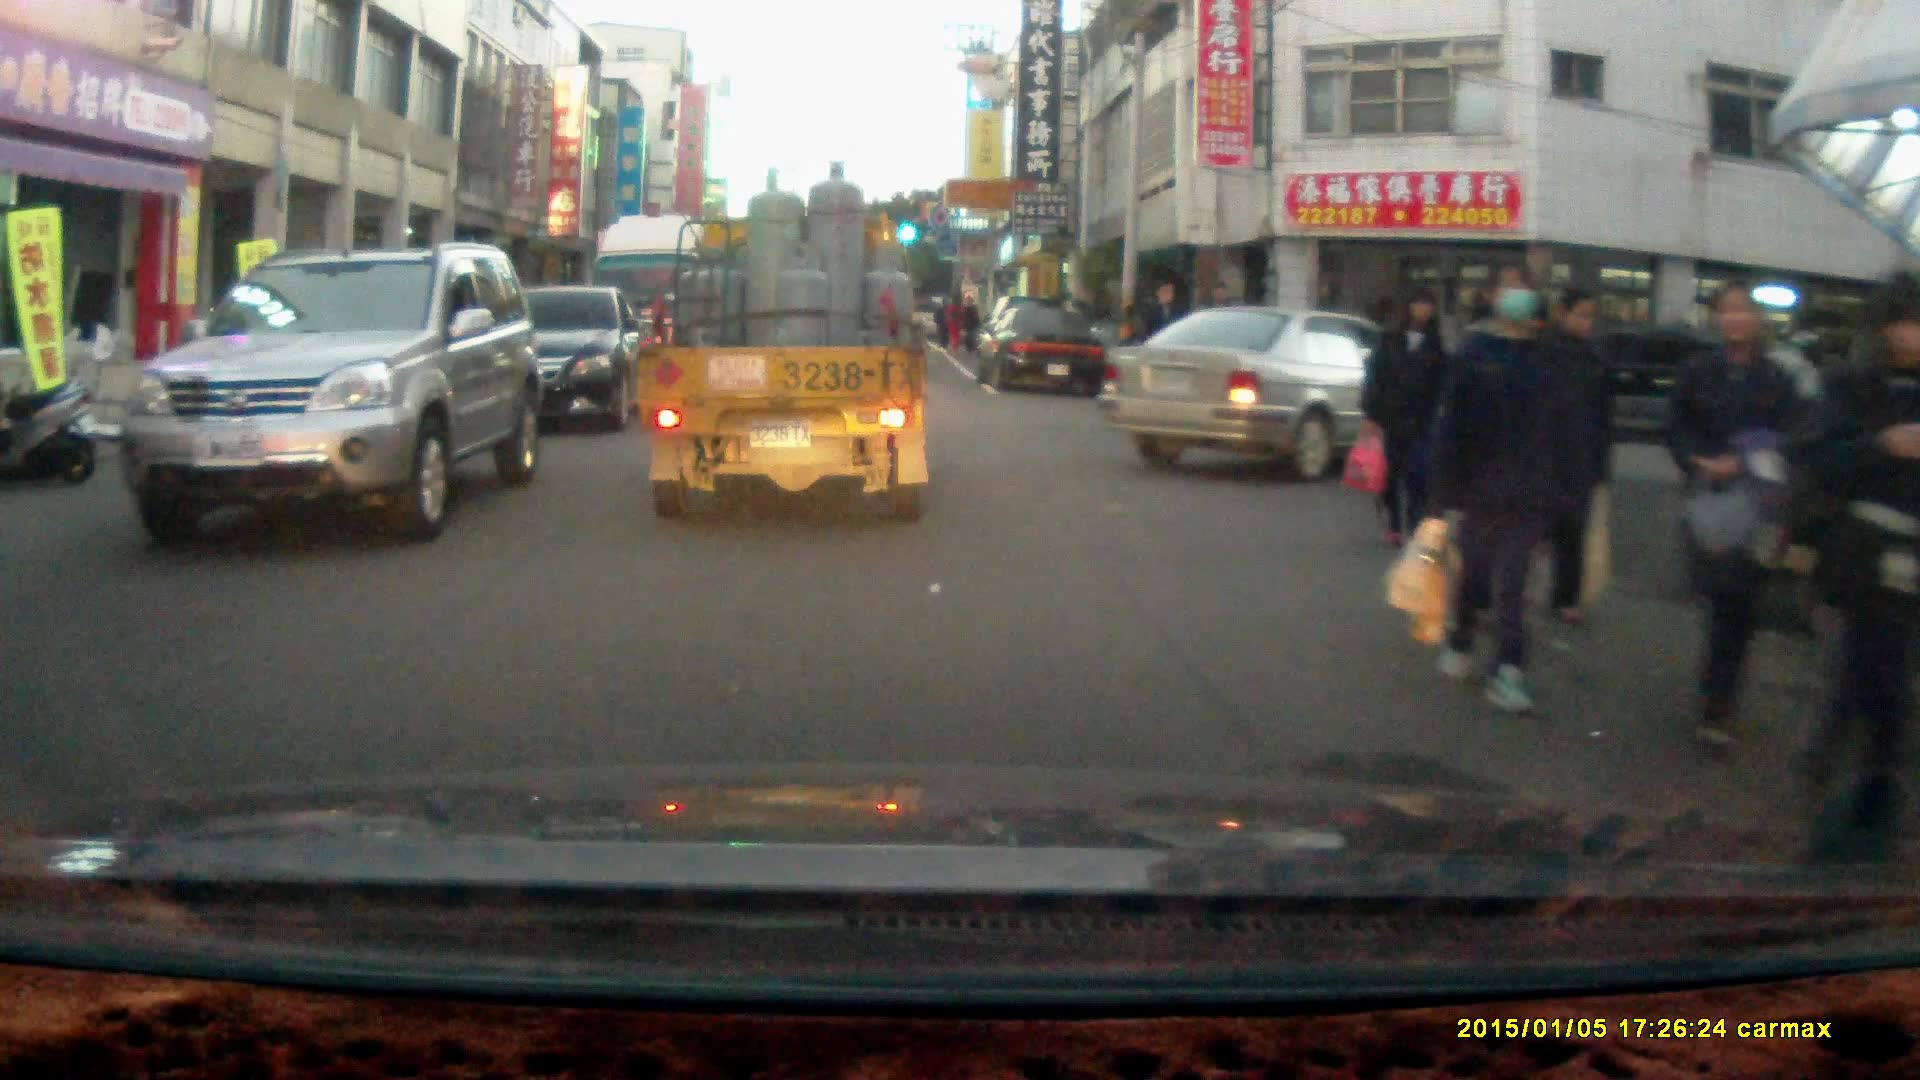pedestrian: (1439, 257, 1607, 721), (1662, 278, 1810, 757), (1807, 293, 1916, 850), (1525, 280, 1619, 631), (1359, 283, 1459, 565), (1140, 277, 1194, 441)
vehicle: (121, 243, 541, 541), (631, 157, 935, 521), (1099, 308, 1494, 484), (438, 286, 645, 433), (588, 212, 747, 399), (979, 298, 1109, 394)
